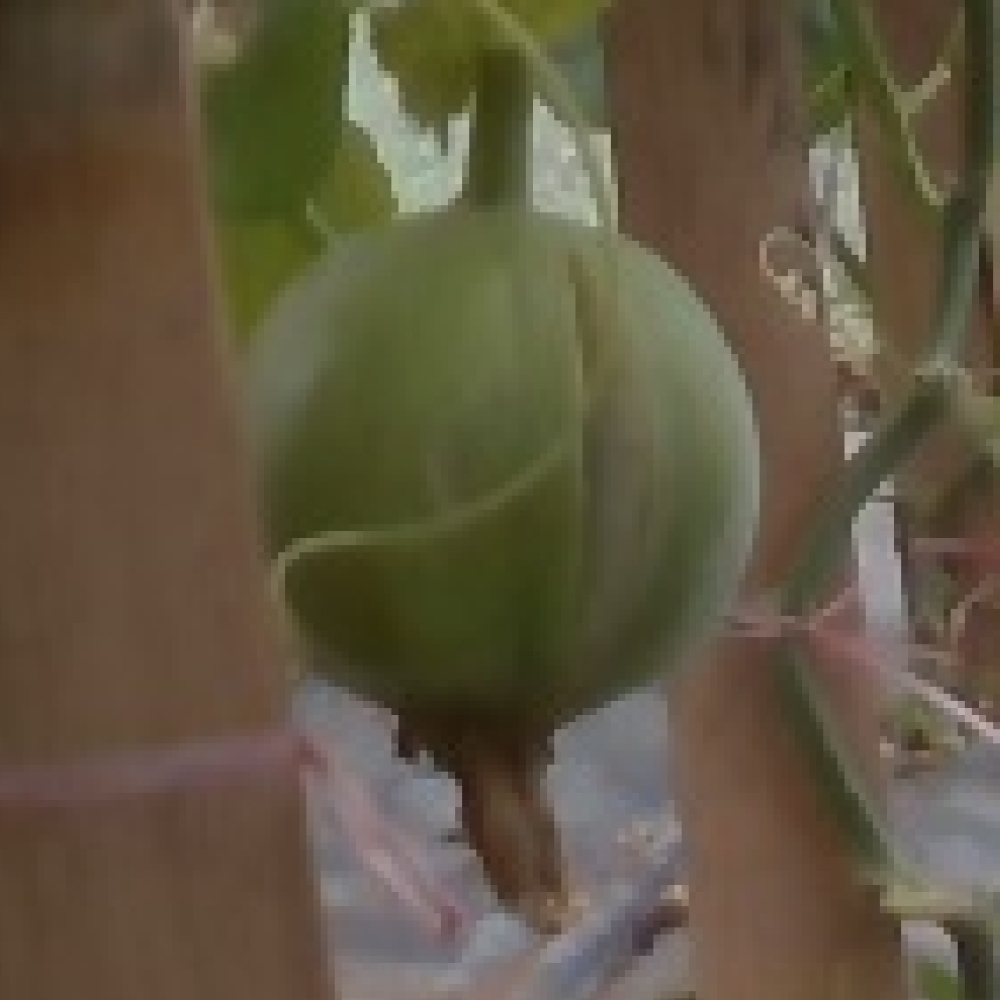melon: (232, 200, 771, 744)
